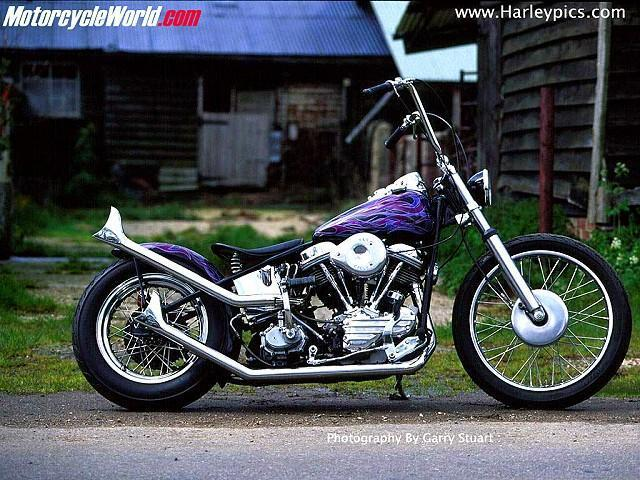motorcycle: (42, 107, 640, 423)
